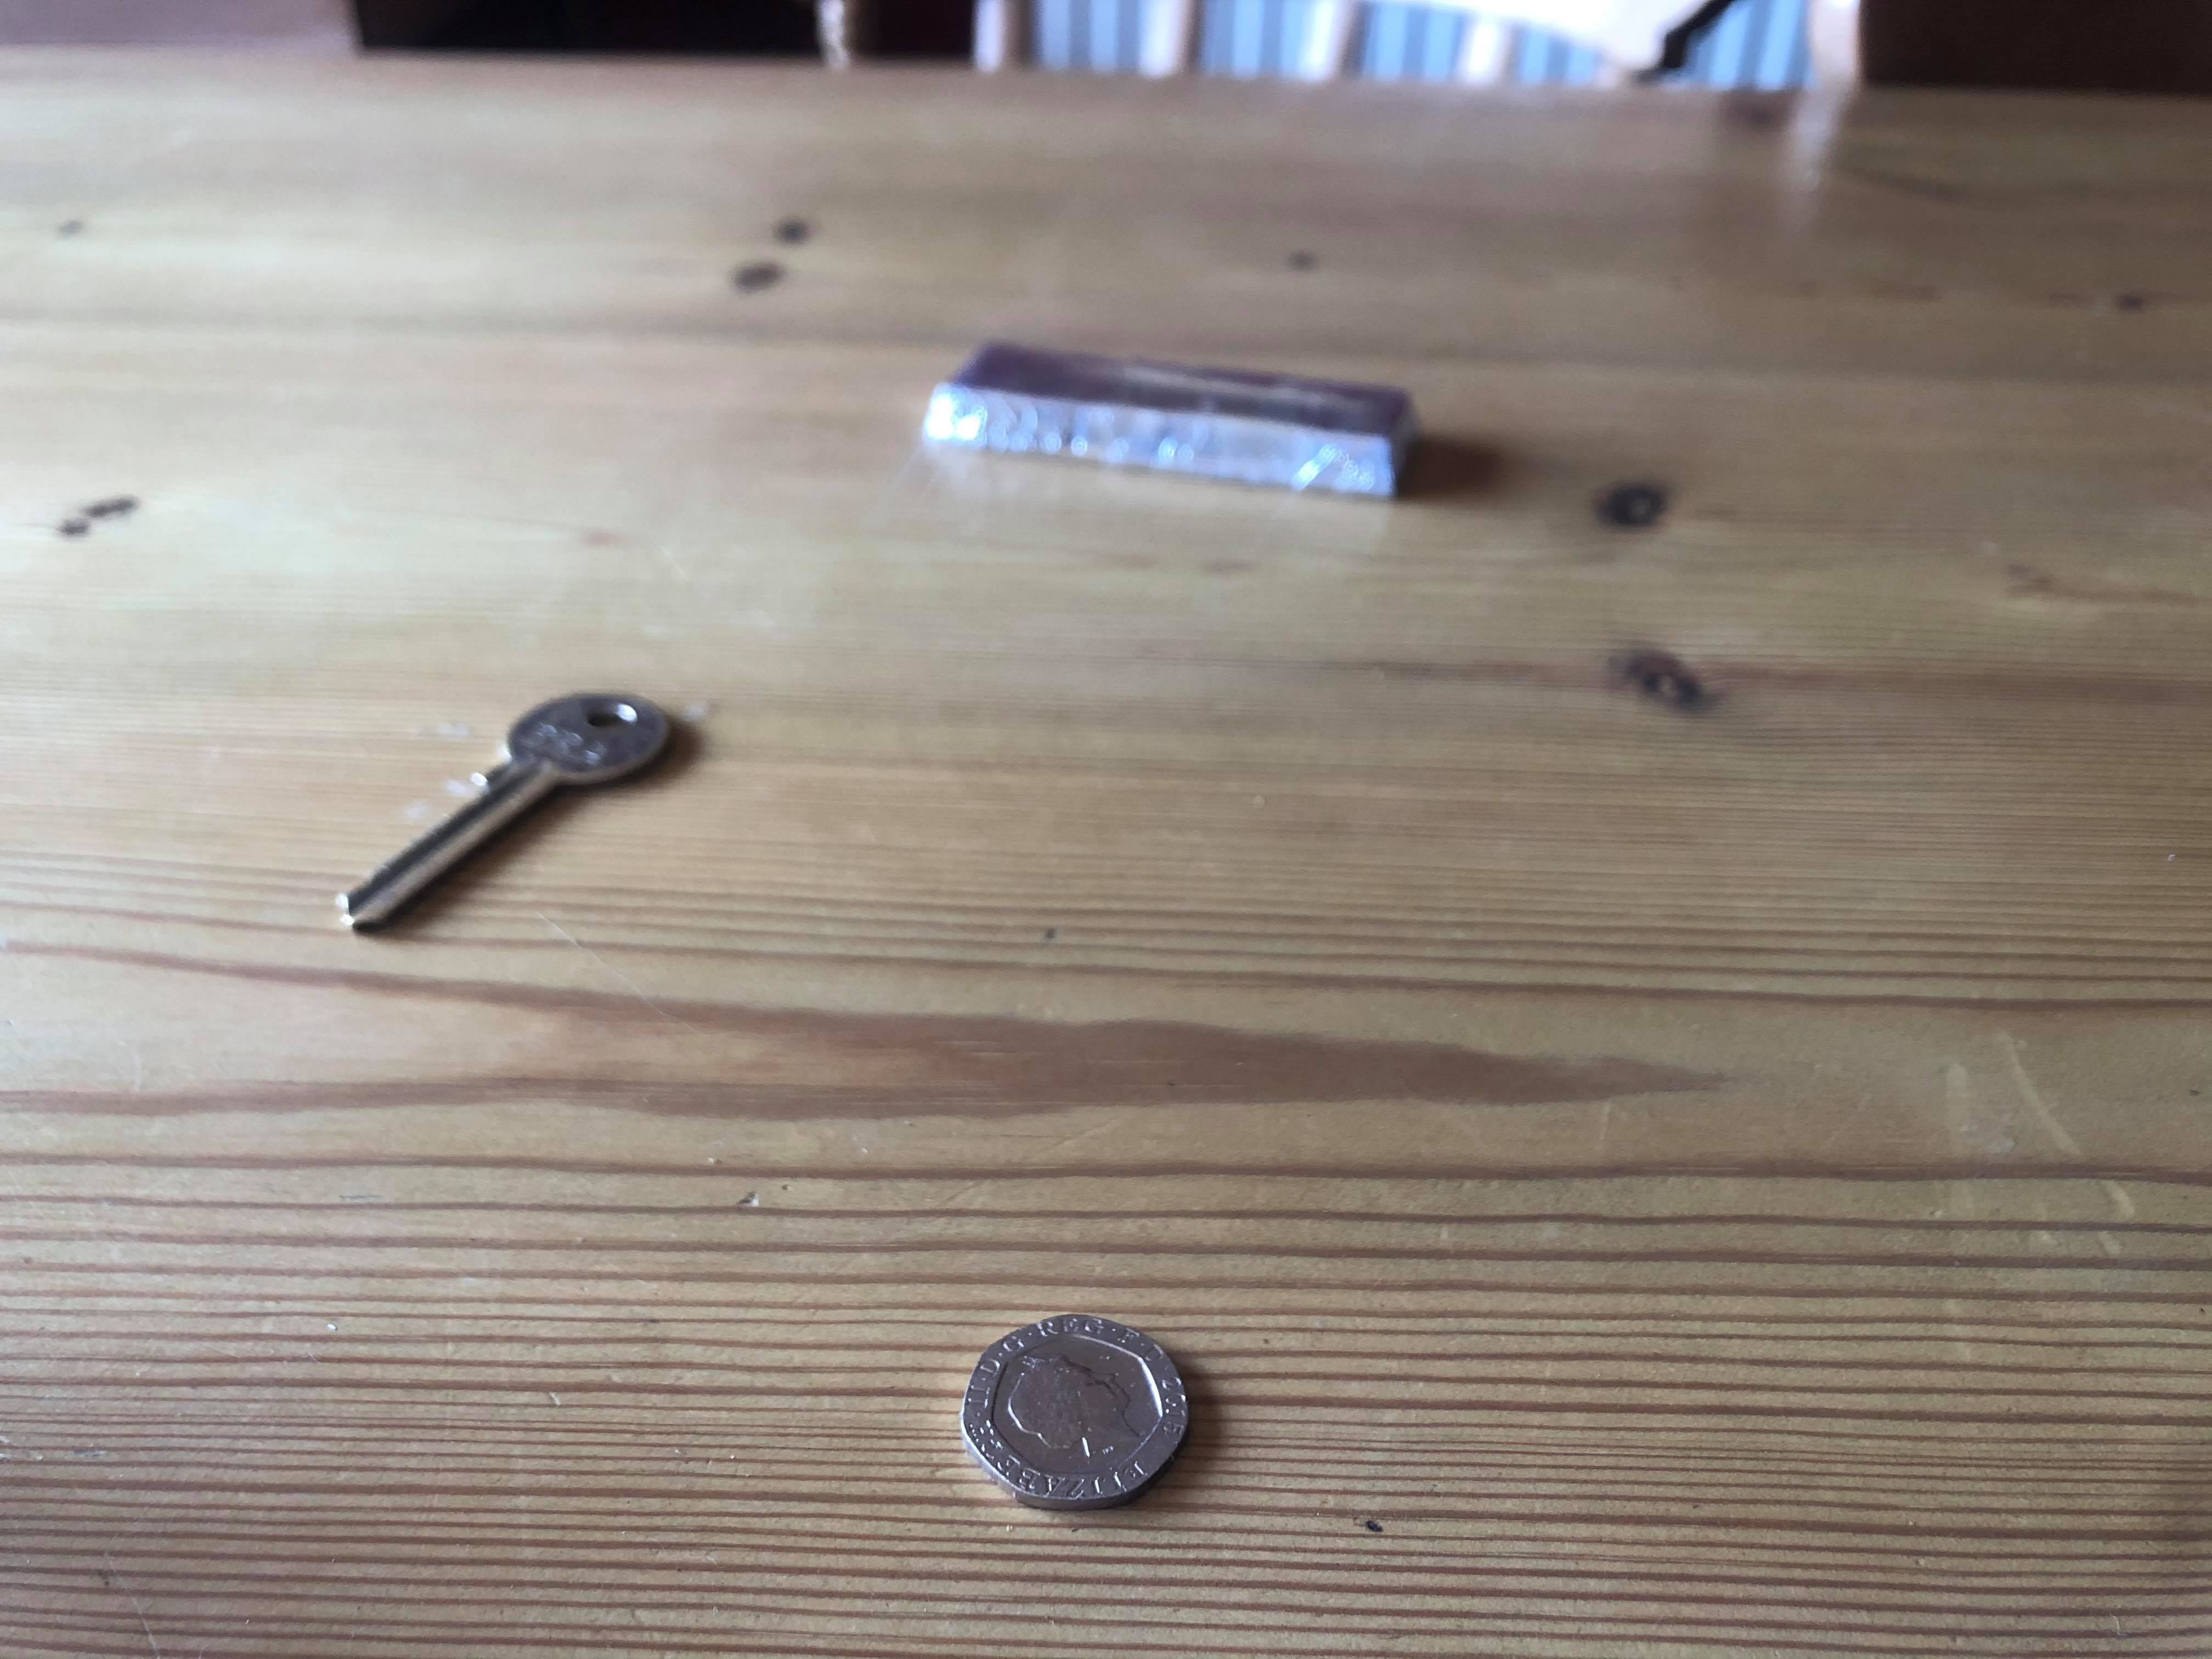Coin: (953, 1298, 1188, 1511)
Foil: (911, 336, 1418, 509)
Key: (324, 681, 688, 948)
